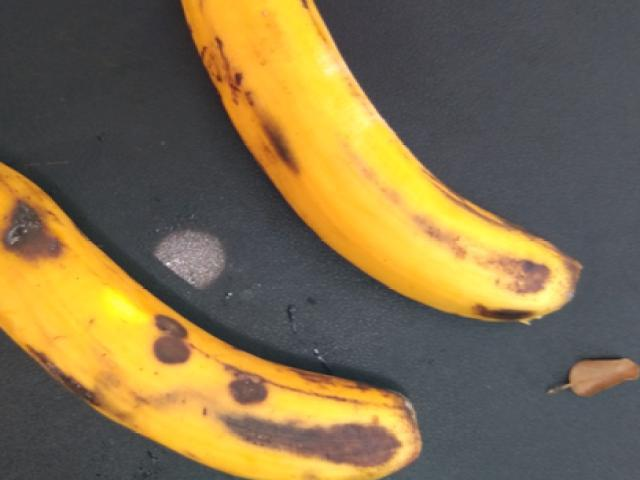overripe: (0, 141, 413, 479)
ripe: (167, 0, 587, 331)
